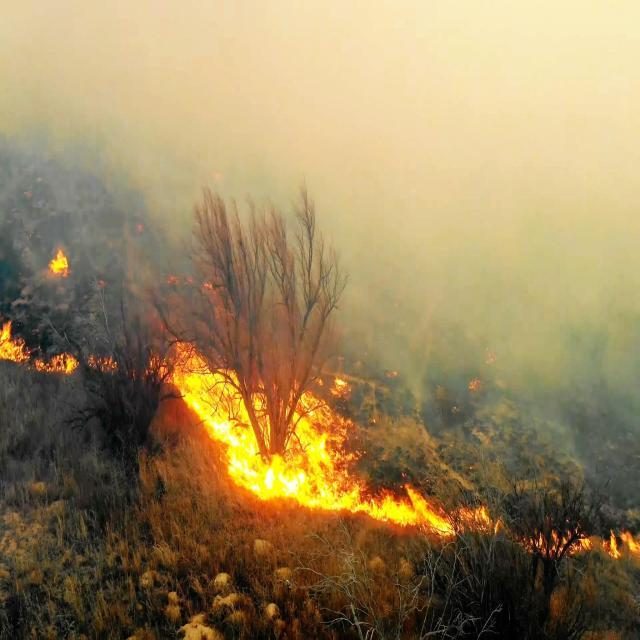Fire: (173, 307, 345, 511), (344, 477, 640, 568), (0, 320, 173, 386), (44, 246, 70, 284)
Smoke: (0, 0, 636, 371)
